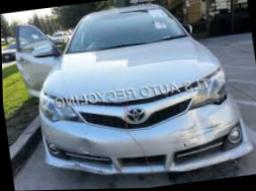Bumper: (38, 94, 252, 176)
